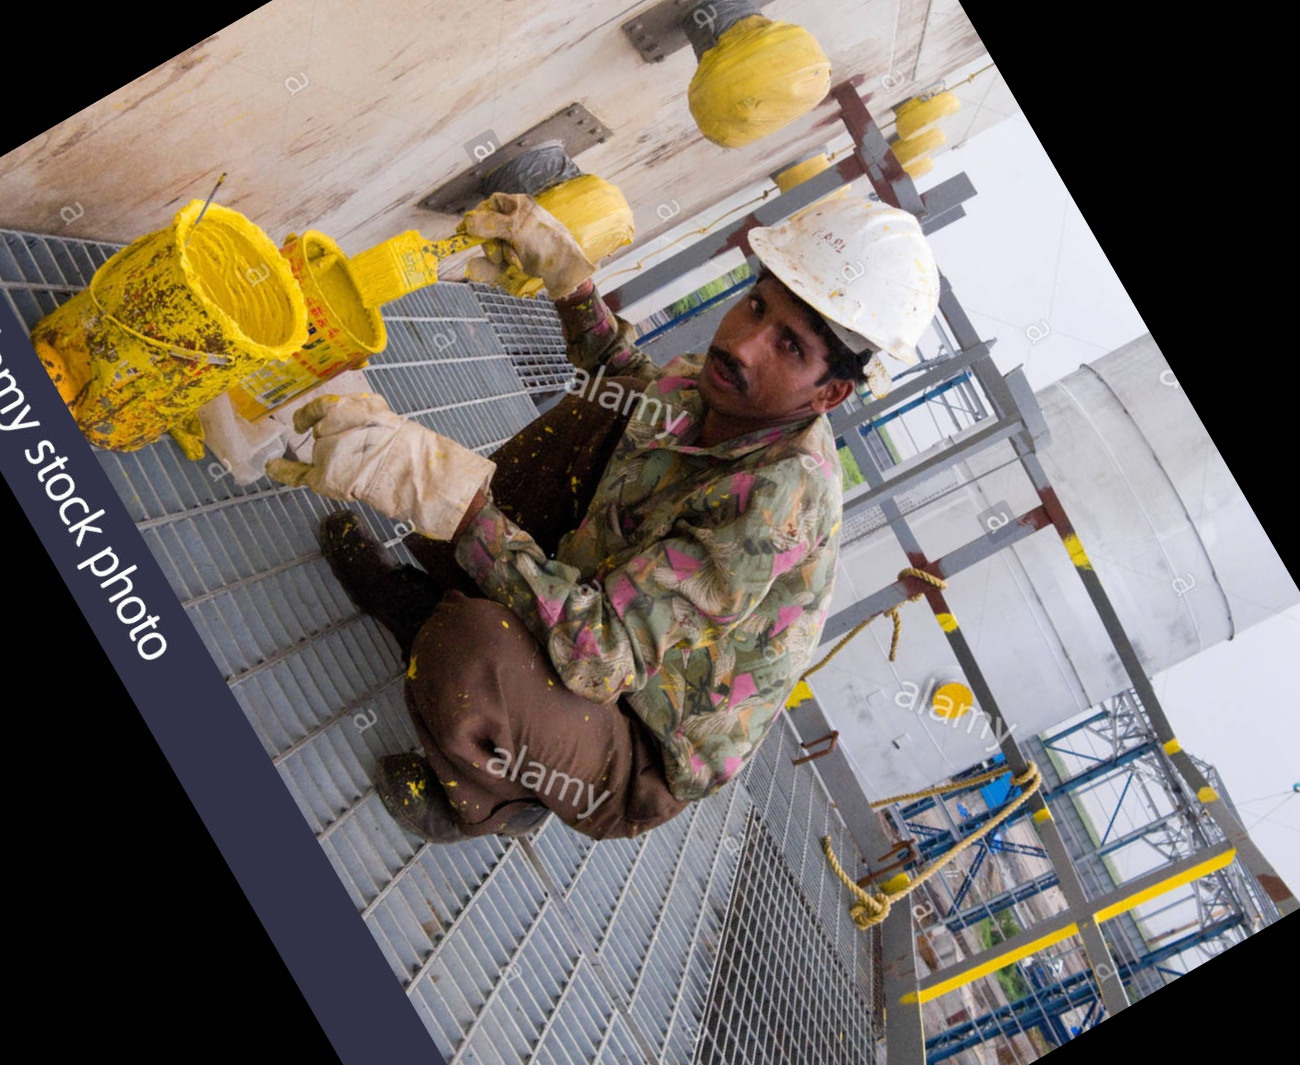NoJacket: (588, 205, 944, 749)
